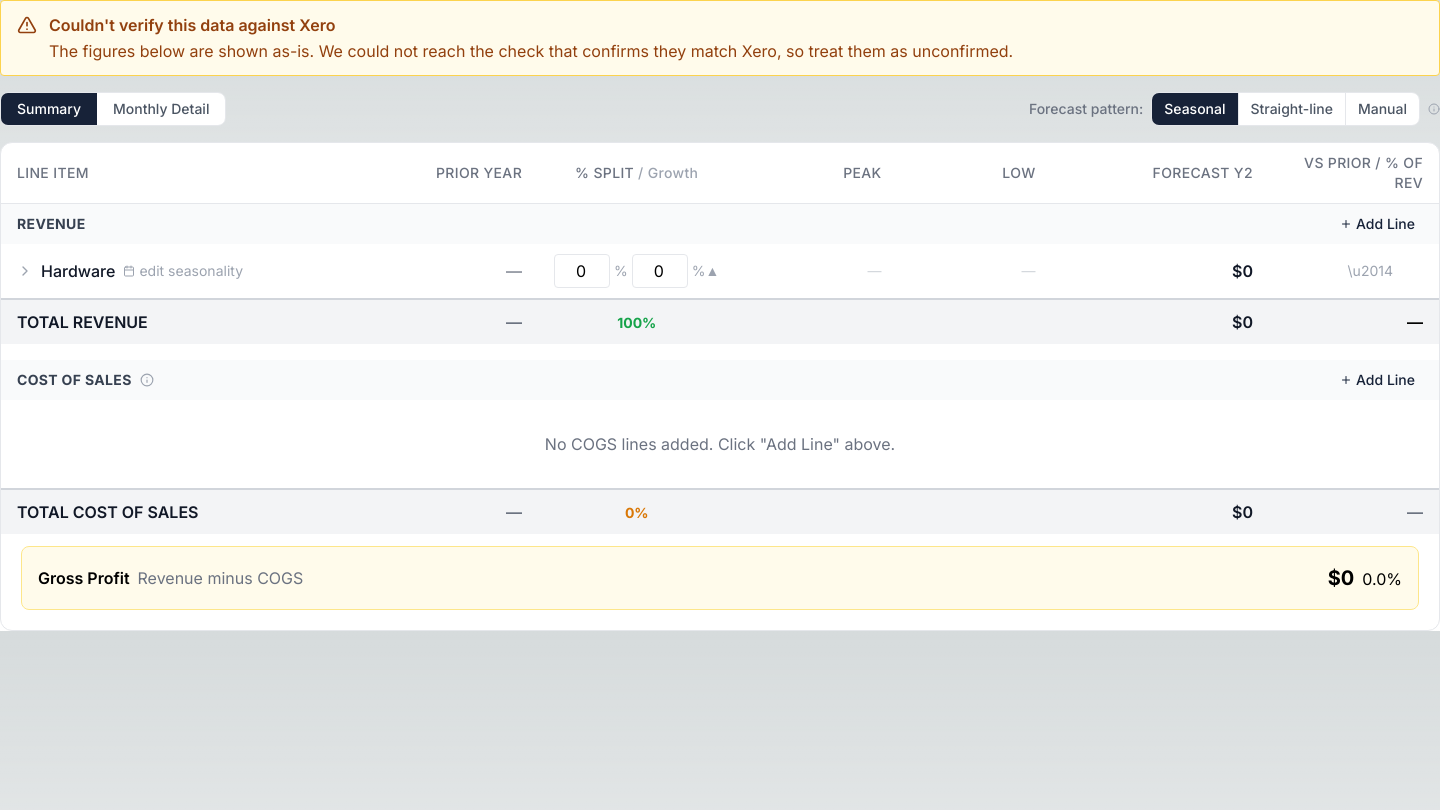
it: UX-S3-02 — Step 3 Y-on-Y Growth % column › Test 5: Y2 view — round-trip: typing 25 in % column (of $240k goal) updates Growth display to 20
Replace the text in the number field named "Percent split for Hardware" with "25": (582, 271) [554, 254, 610, 288]
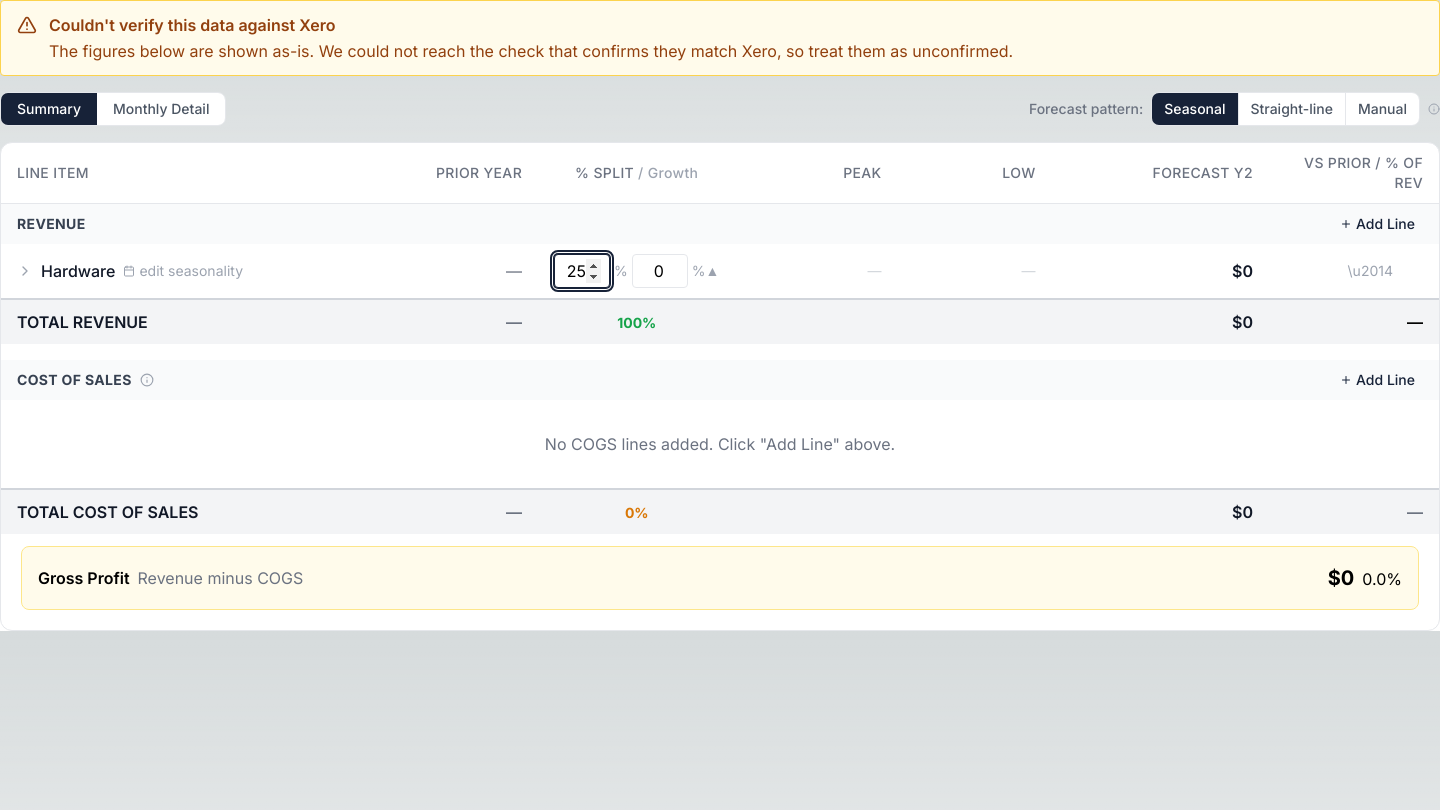
Press Tab
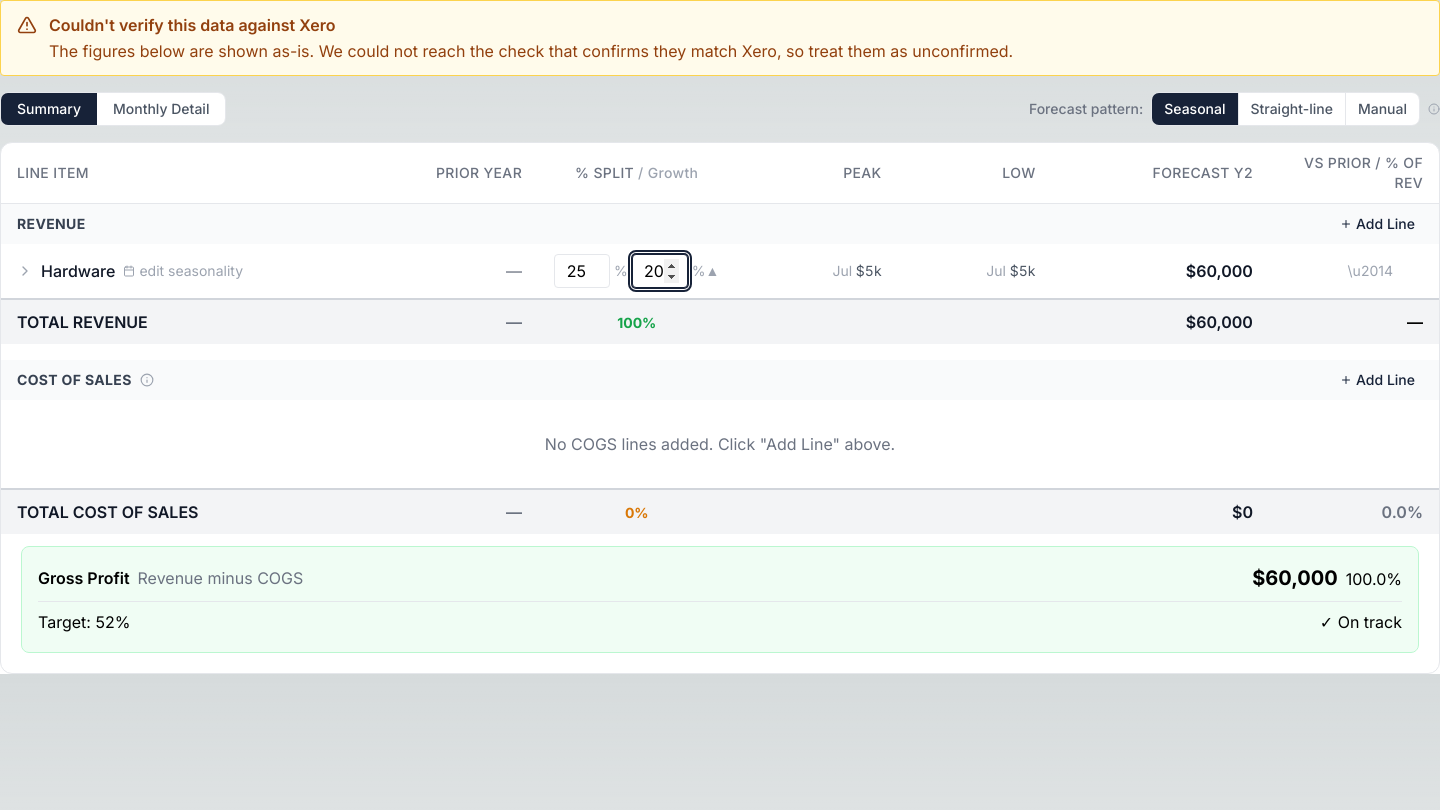
Expected: the number field named "Growth percent for Hardware" holds "20", [632, 254, 688, 288]
